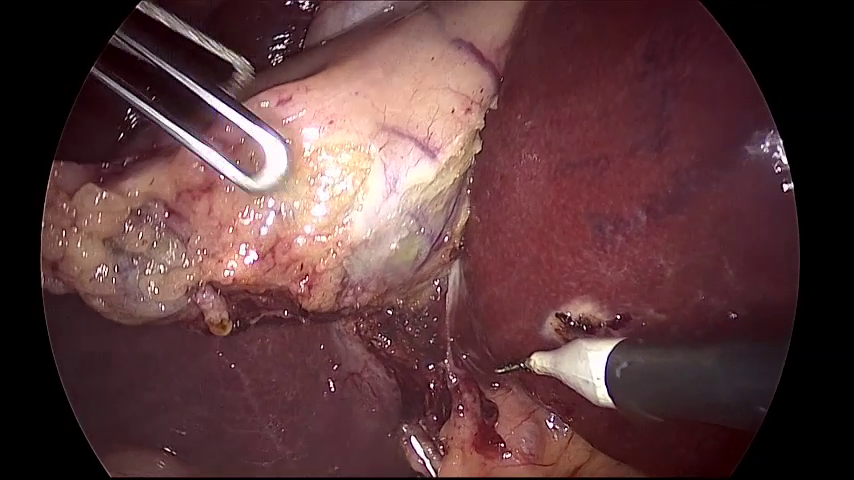grasper: (91, 1, 287, 188)
lhook: (498, 332, 791, 436)
